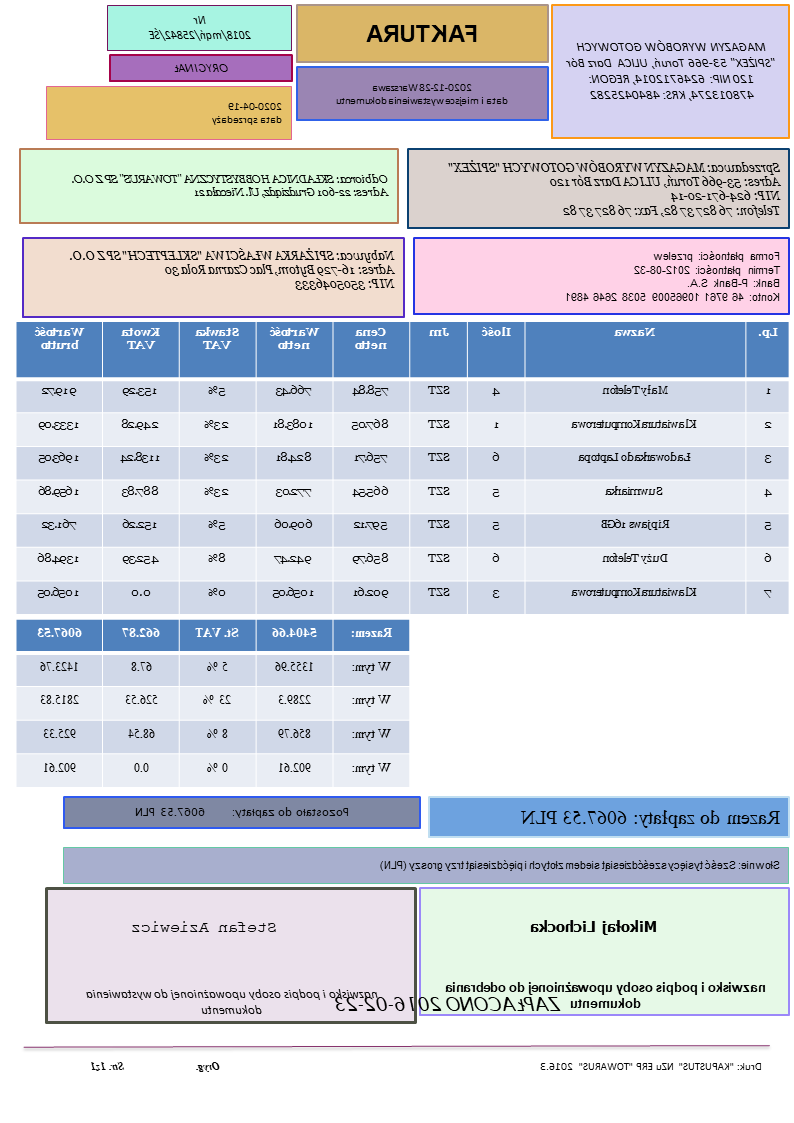Table: (14, 319, 791, 617), (16, 618, 412, 789)
TextBox: (445, 155, 783, 222), (66, 244, 397, 294), (564, 37, 778, 104), (563, 247, 783, 305), (71, 169, 392, 200), (84, 984, 379, 1017), (446, 981, 770, 1011), (379, 855, 782, 874), (518, 805, 784, 831), (329, 992, 561, 1019), (333, 79, 512, 110), (538, 1056, 766, 1075), (133, 804, 352, 821), (148, 13, 254, 45), (527, 913, 660, 937), (129, 918, 279, 937), (363, 22, 481, 46), (210, 97, 286, 132), (87, 1057, 223, 1073), (172, 59, 231, 77)
